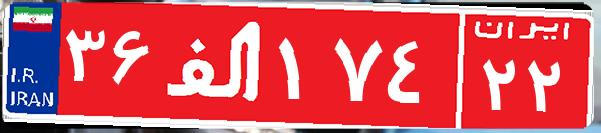1: (273, 28, 330, 110)
2: (475, 38, 525, 113), (525, 38, 570, 115)
3: (57, 26, 110, 107)
4: (385, 28, 445, 110)
6: (110, 28, 158, 105)
7: (330, 28, 385, 110)
الف: (158, 15, 273, 115)
